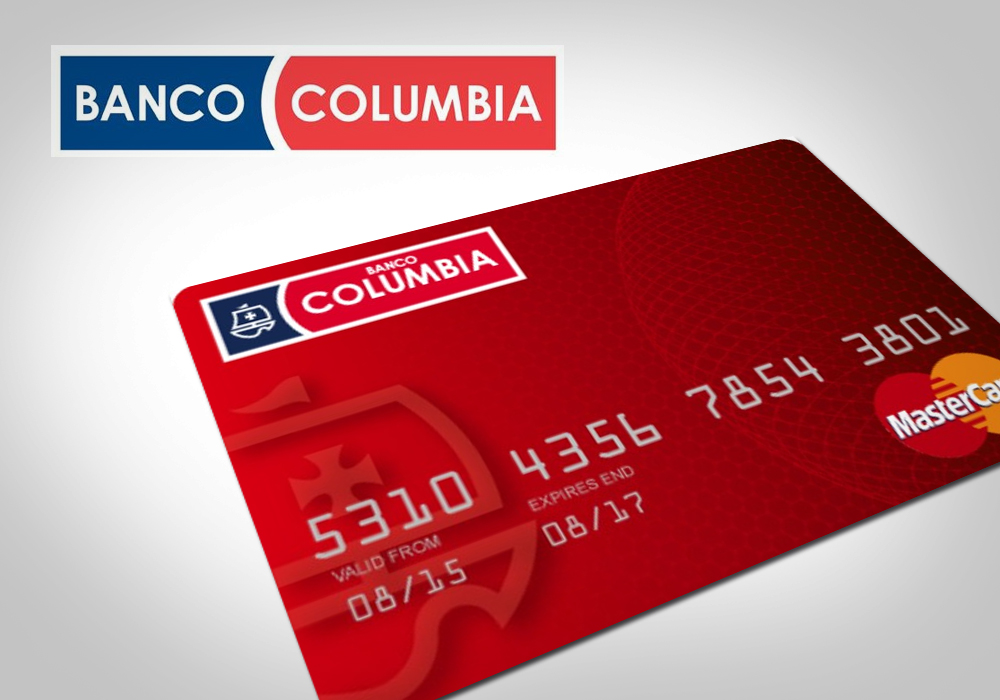tarjeta: (176, 139, 1000, 700)
